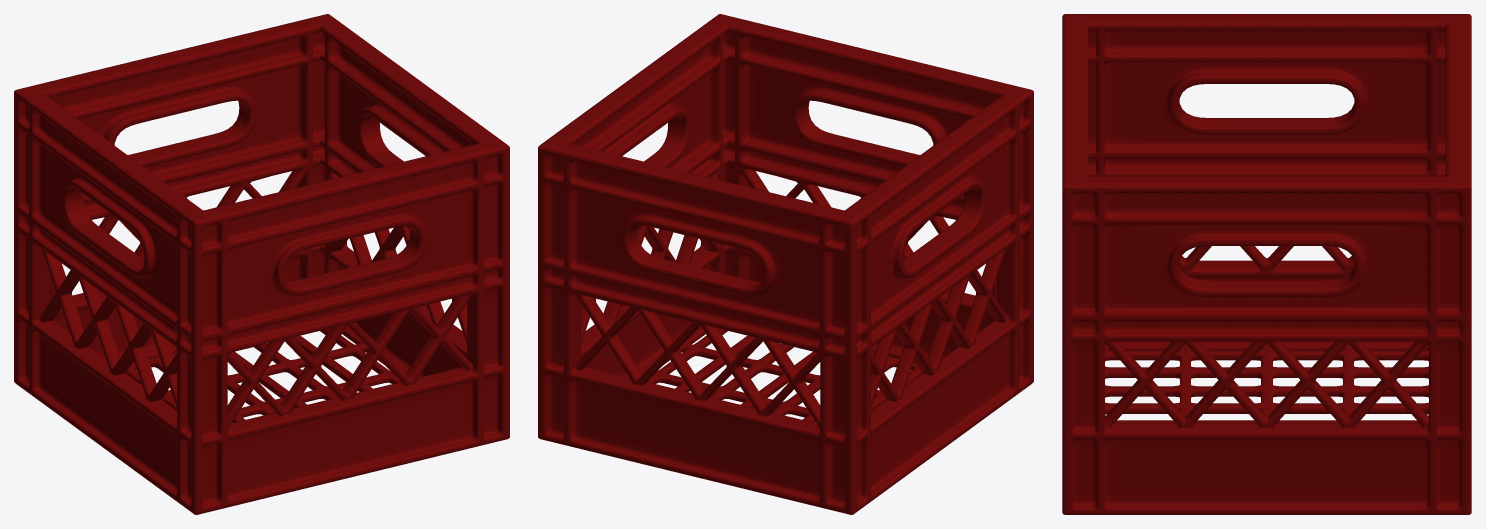
File: Milk Crate.fbx
3 views of the same model, side by side, from view 1: azimuth 30°, elevation 25°; view 2: azimuth 150°, elevation 25°; view 3: azimuth 270°, elevation 25° (orthographic). The views are drawn at different scales.
Parts seen in each view (by area): view 1: crate; view 2: crate; view 3: crate.
Part boxes in pixels (<box>): crate: <box>14,14,509,514</box>; crate: <box>538,14,1033,514</box>; crate: <box>1062,14,1471,514</box>.
Size of the model in its own units: 2.56 by 2.27 by 2.55.
